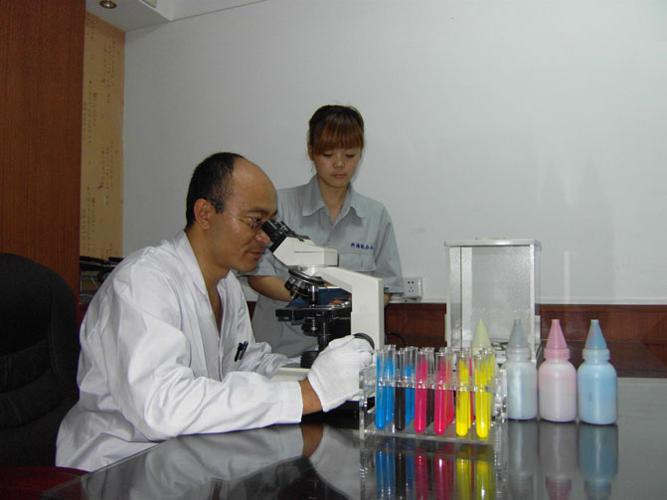person: (55, 150, 371, 473)
